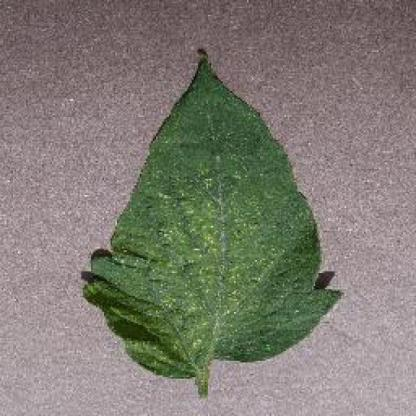Tomato_Spider_Mites: (84, 57, 343, 372)
